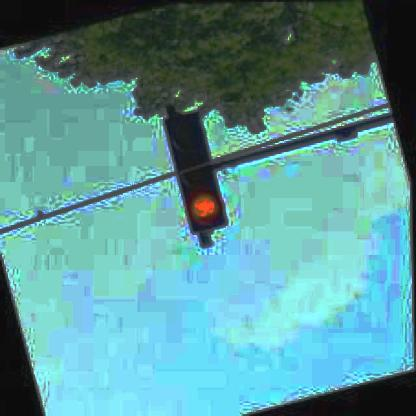Traffic Light -Red-: (161, 110, 231, 233)
